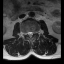CCS_normal: (29, 30, 31, 39)
LFS_stenosis: (33, 30, 36, 36)
LLS_normal: (31, 30, 33, 37)
RFS_normal: (24, 31, 26, 36)
RLS_normal: (26, 30, 29, 36)
